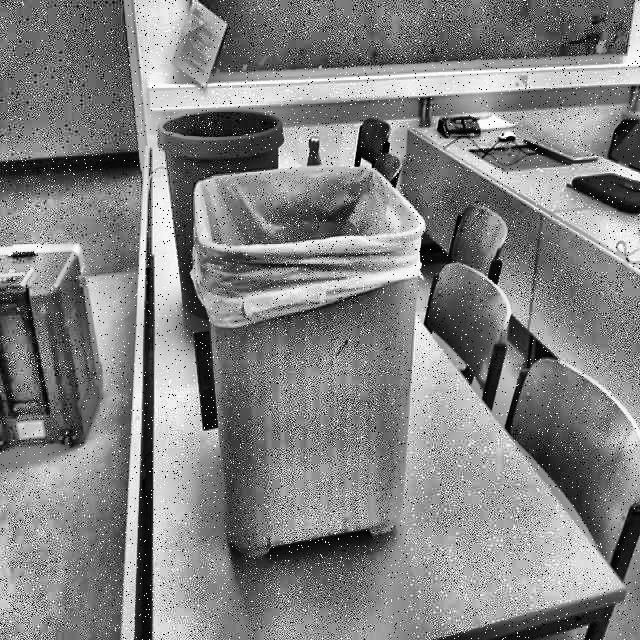Dustbin: (181, 175, 445, 578)
